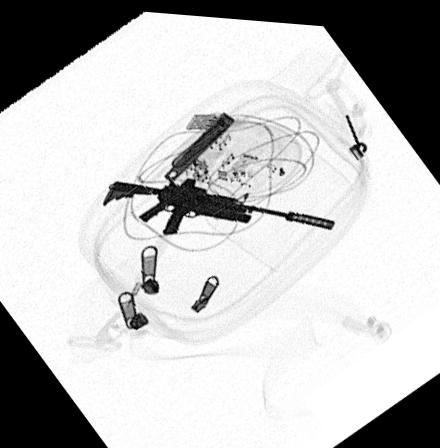Gun: (100, 171, 339, 232)
